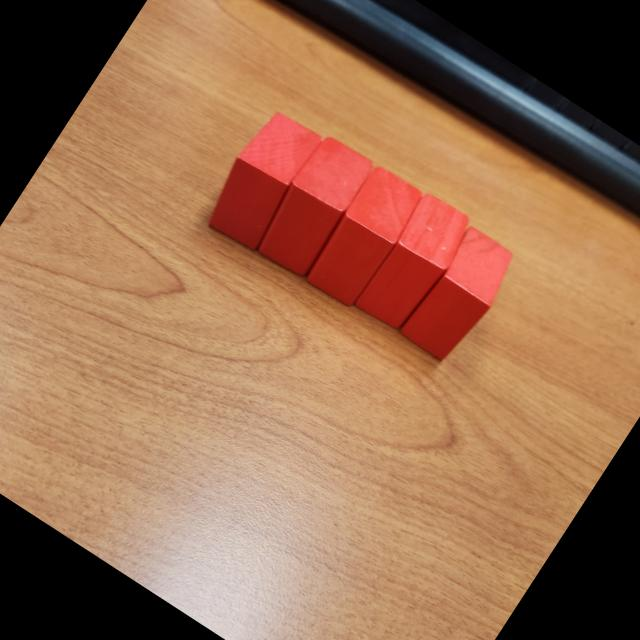red: (196, 103, 328, 255), (300, 161, 428, 312), (248, 130, 376, 280), (350, 188, 478, 338), (395, 222, 523, 368)
